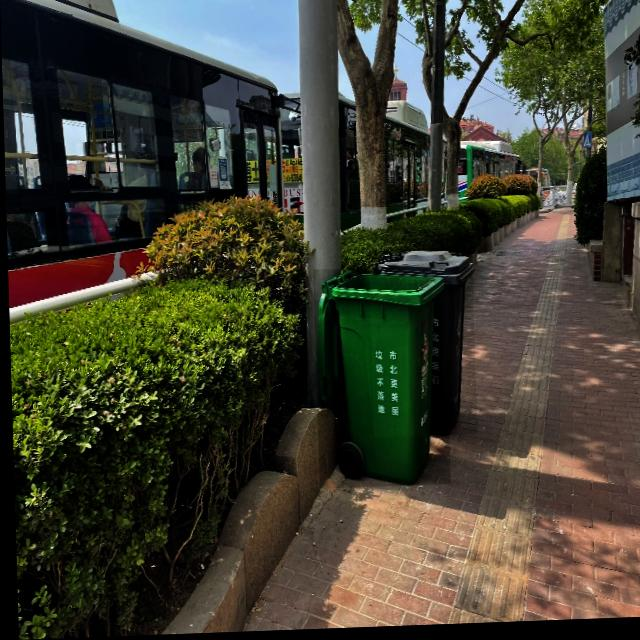garbage_bin: (312, 268, 448, 491), (367, 250, 475, 440)
